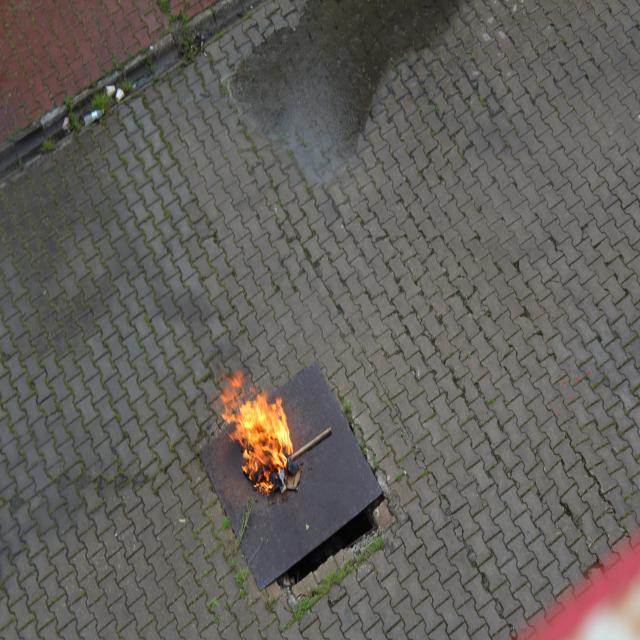fire: (215, 370, 294, 498)
